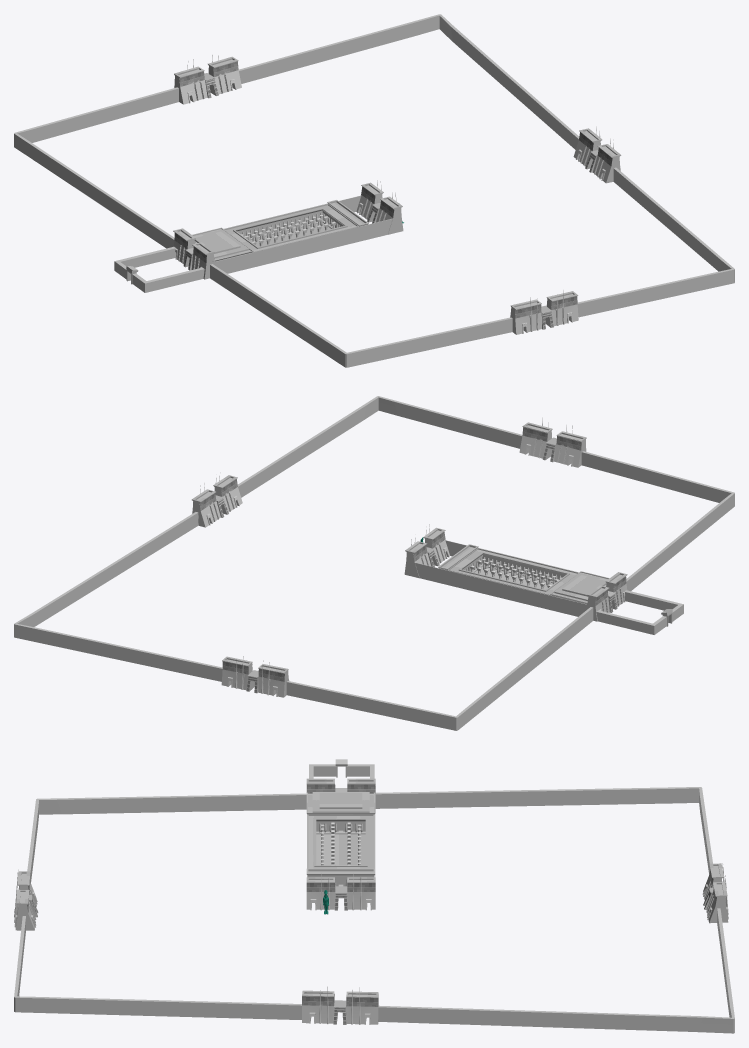
The model's file is 20250815_Ptah_Temple_BIG.glb.
3 views of the same model, one above another, from view 1: azimuth 30°, elevation 25°; view 2: azimuth 150°, elevation 25°; view 3: azimuth 270°, elevation 25° (orthographic). The views are drawn at different scales.
Parts seen in each view (by area): view 1: Plane, Plane.011, Plane.004, Plane.001, Plane.012, Plane.010; view 2: Plane, Plane.011, Plane.001, Plane.004, Plane.010, Plane.012; view 3: Plane, Plane.011, Plane.010, Plane.004, Plane.001, Plane.012.
Part boxes in pixels (bbox=[...]): Plane: bbox=[14, 14, 734, 367]; Plane.011: bbox=[173, 180, 403, 279]; Plane.004: bbox=[174, 55, 241, 104]; Plane.001: bbox=[510, 290, 578, 334]; Plane.012: bbox=[114, 246, 204, 292]; Plane.010: bbox=[573, 126, 621, 183]; Plane: bbox=[14, 396, 734, 730]; Plane.011: bbox=[404, 524, 627, 621]; Plane.001: bbox=[519, 417, 586, 467]; Plane.004: bbox=[221, 656, 289, 697]; Plane.010: bbox=[191, 472, 242, 527]; Plane.012: bbox=[596, 590, 683, 634]; Plane: bbox=[14, 787, 734, 1033]; Plane.011: bbox=[306, 778, 375, 910]; Plane.010: bbox=[302, 986, 378, 1024]; Plane.004: bbox=[702, 863, 728, 923]; Plane.001: bbox=[14, 869, 38, 930]; Plane.012: bbox=[309, 764, 374, 778].
Bounding box in the file's own units: 534 × 36.15 × 628.
9 materials, 5 textured.
